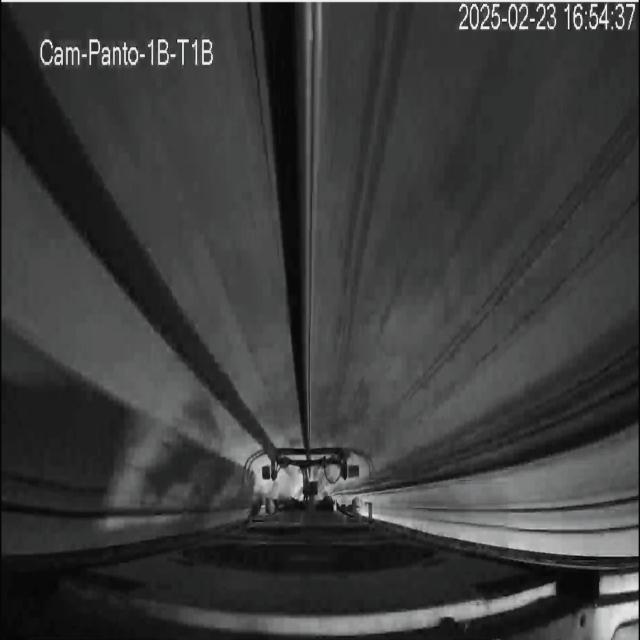Camera Stamp: (32, 27, 220, 71)
Date Stamp: (458, 3, 636, 33)
No - Spark: (257, 446, 364, 511)
